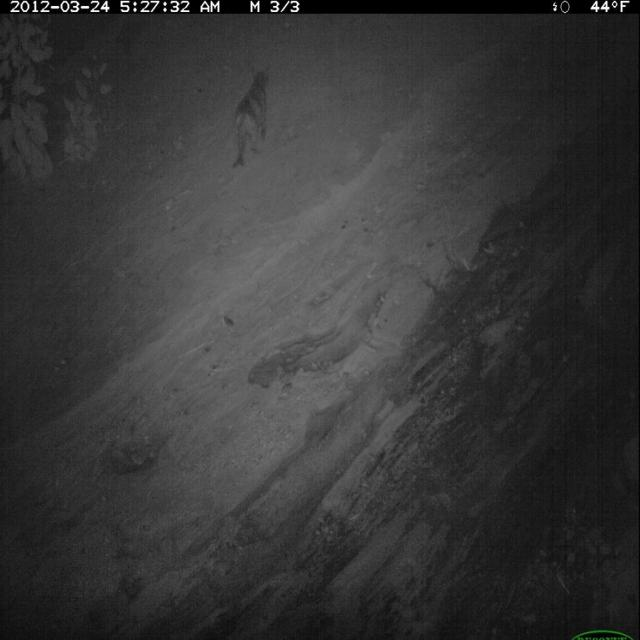cat: (228, 62, 276, 176)
